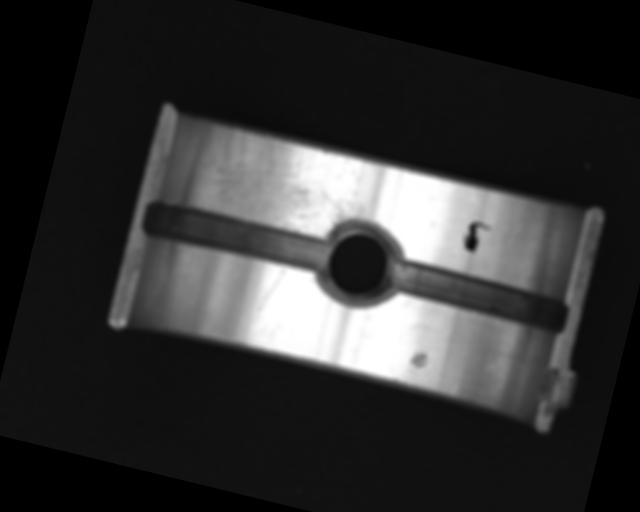blot: (460, 218, 491, 256)
bruise: (408, 348, 431, 370)
gap: (139, 194, 334, 280), (385, 255, 570, 335)
hole: (313, 212, 407, 312)
nick: (258, 263, 286, 314)
scratch: (184, 119, 379, 246)
